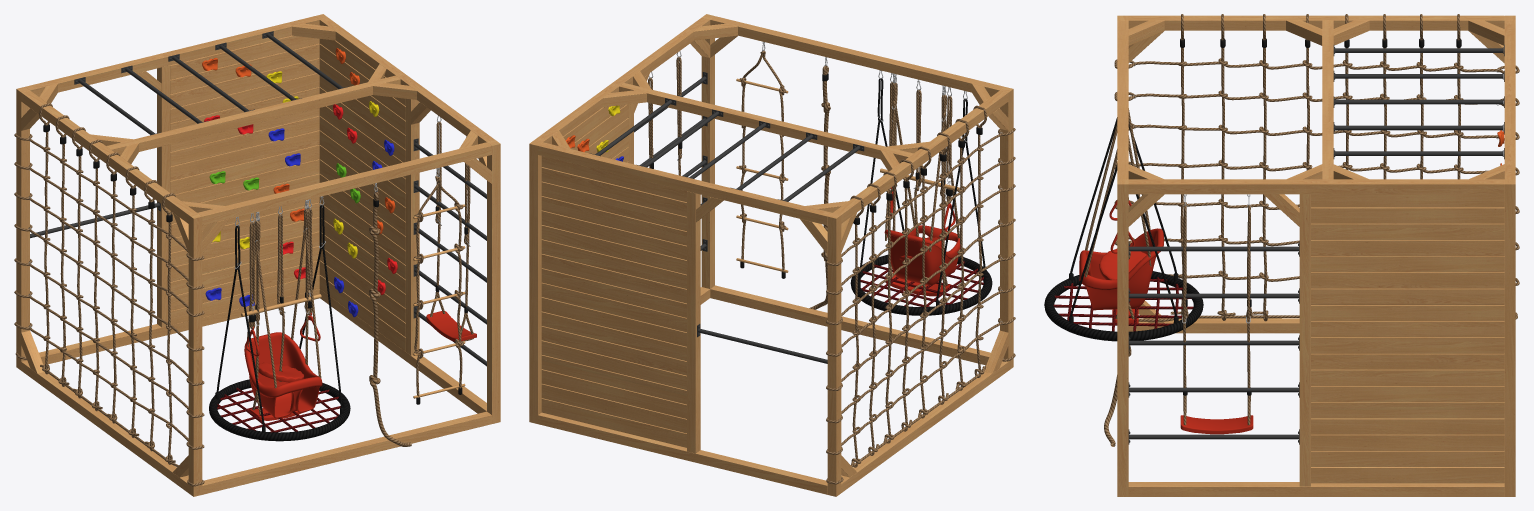
The model's file is wooden-boyz-jasiek.glb.
3 views of the same model, side by side, from view 1: azimuth 30°, elevation 25°; view 2: azimuth 150°, elevation 25°; view 3: azimuth 270°, elevation 25° (orthographic). The views are drawn at different scales.
Parts seen in each view (by area): view 1: konstrukcja-jasiek, siatka, GRUPA-hustawka-gniazdo, GRUPA-hustawka-kubelek, GRUPA-hustawka-drabinka, drazki-top, GRUPA-hustawka-deska.001, GRUPA-kamienie, GRUPA-kamienie-ekstra, GRUPA-drazki-zamiast, GRUPA-hustawka-trapez, GRUPA-lina-wspinaczka (+2 smaller); view 2: konstrukcja-jasiek, siatka, GRUPA-hustawka-gniazdo, GRUPA-hustawka-kubelek, drazki-top, GRUPA-hustawka-drabinka, GRUPA-hustawka-trapez, GRUPA-hustawka-deska, GRUPA-lina-wspinaczka, GRUPA-hustawka-deska.001, GRUPA-drazki-zamiast, GRUPA-hustawka-orczyk (+1 smaller); view 3: konstrukcja-jasiek, siatka, GRUPA-hustawka-gniazdo, GRUPA-drazki-zamiast, drazki-top, GRUPA-hustawka-kubelek, GRUPA-hustawka-deska.001, GRUPA-hustawka-orczyk.
Part boxes in pixels (x1,y1,x2,y2): konstrukcja-jasiek: [16, 14, 500, 496]; siatka: [14, 103, 204, 486]; GRUPA-hustawka-gniazdo: [209, 196, 350, 441]; GRUPA-hustawka-kubelek: [244, 200, 322, 418]; GRUPA-hustawka-drabinka: [413, 168, 465, 404]; drazki-top: [74, 31, 348, 135]; GRUPA-hustawka-deska.001: [426, 115, 476, 341]; GRUPA-kamienie: [202, 48, 385, 300]; GRUPA-kamienie-ekstra: [235, 64, 397, 317]; GRUPA-drazki-zamiast: [413, 138, 486, 366]; GRUPA-hustawka-trapez: [241, 199, 321, 356]; GRUPA-lina-wspinaczka: [369, 183, 411, 446]; konstrukcja-jasiek: [529, 14, 1013, 496]; siatka: [826, 105, 1015, 484]; GRUPA-hustawka-gniazdo: [850, 70, 992, 315]; GRUPA-hustawka-kubelek: [884, 74, 960, 285]; drazki-top: [589, 98, 864, 201]; GRUPA-hustawka-drabinka: [736, 41, 788, 278]; GRUPA-hustawka-trapez: [880, 73, 959, 230]; GRUPA-hustawka-deska: [885, 73, 950, 296]; GRUPA-lina-wspinaczka: [809, 57, 830, 309]; GRUPA-hustawka-deska.001: [648, 51, 682, 175]; GRUPA-drazki-zamiast: [634, 72, 707, 251]; GRUPA-hustawka-orczyk: [899, 79, 941, 260]; konstrukcja-jasiek: [1117, 15, 1515, 496]; siatka: [1114, 14, 1519, 321]; GRUPA-hustawka-gniazdo: [1044, 117, 1203, 341]; GRUPA-drazki-zamiast: [1128, 241, 1299, 444]; drazki-top: [1333, 44, 1504, 159]; GRUPA-hustawka-kubelek: [1079, 108, 1163, 310]; GRUPA-hustawka-deska.001: [1180, 194, 1253, 434]; GRUPA-hustawka-orczyk: [1099, 197, 1152, 279].
Bounding box in the file's own units: 2.53 × 2.16 × 2.95.
Materials: 20 (10 with a texture image).
